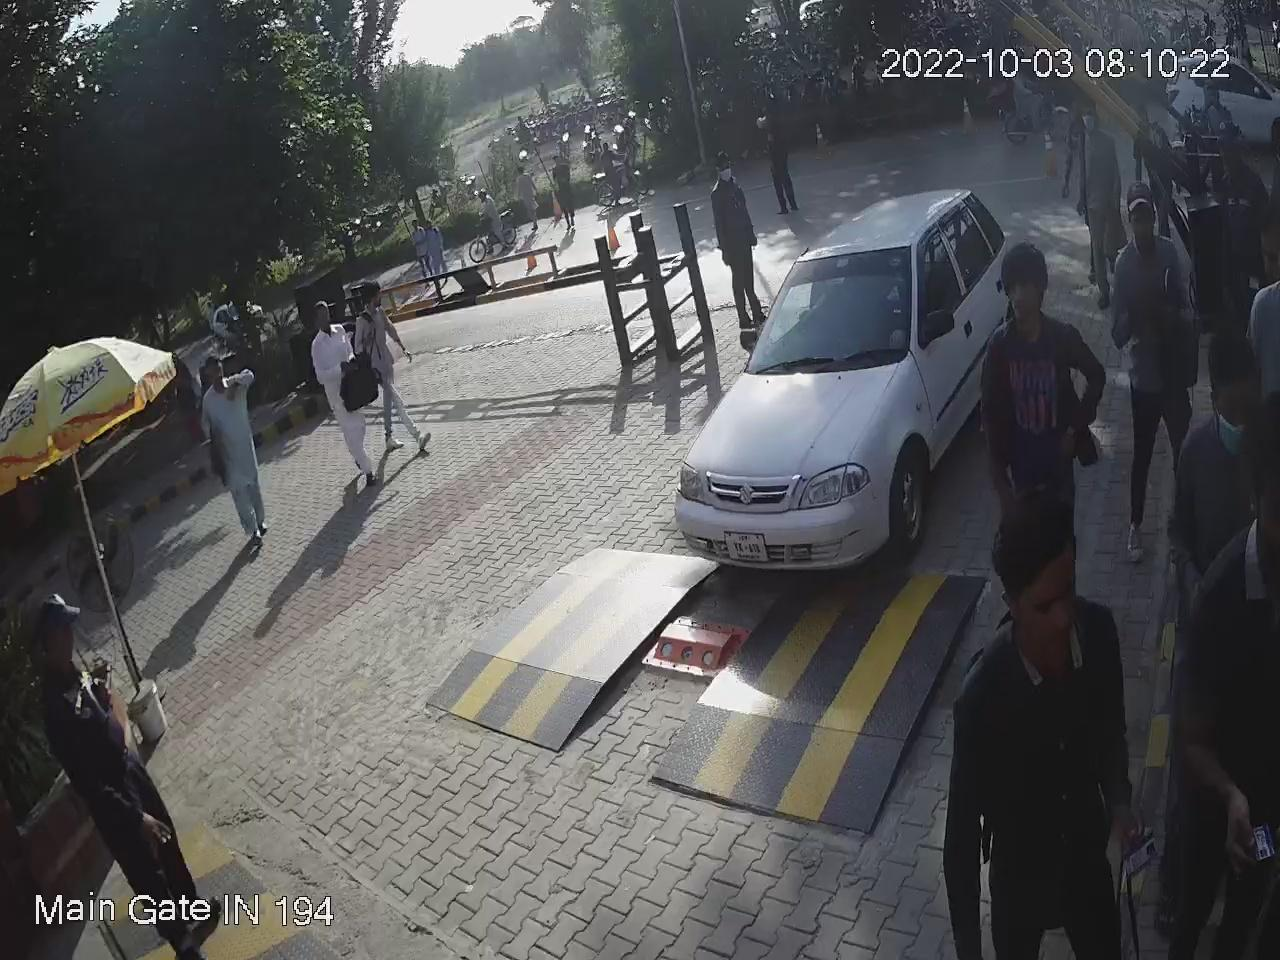windshield: (741, 238, 918, 375)
